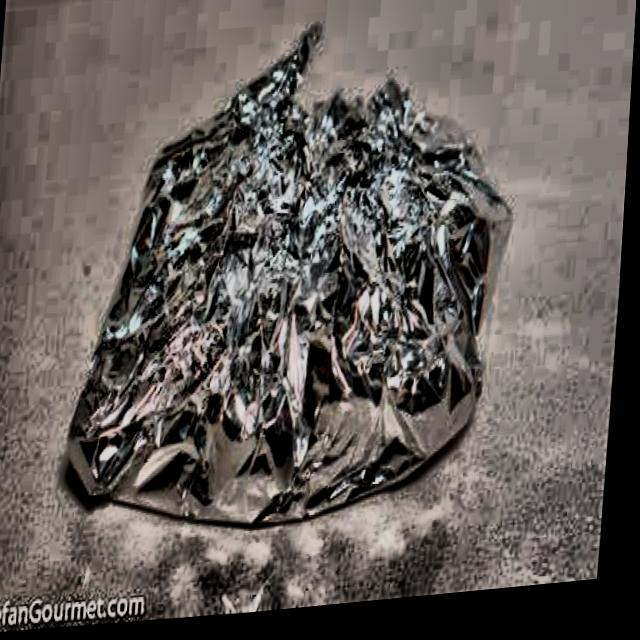Foil: (56, 1, 537, 549)
